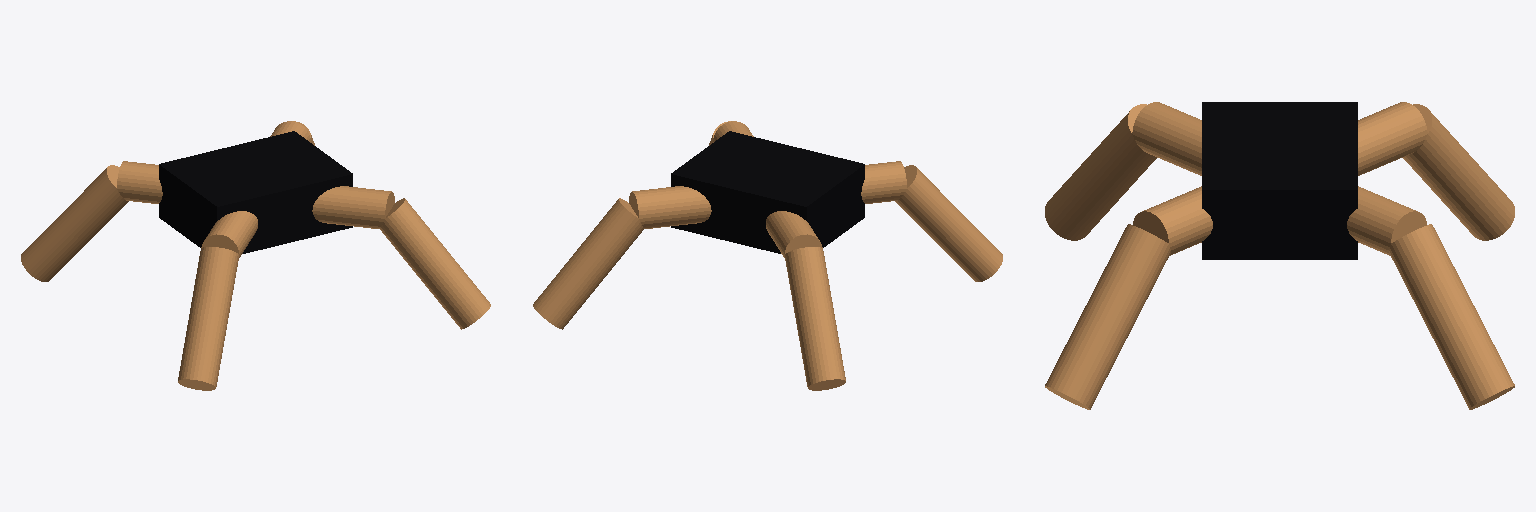
The robot description file, URDF, robot "spyder":
<?xml version="1.0"?>
<!-- FULL 8-DoF spyder, generated by scripts/make_urdf.py from models/spyder.xml -->
<robot name="spyder">
  <mujoco><compiler meshdir="../models/assets" discardvisual="false" balanceinertia="true"/></mujoco>
  <material name="black"><color rgba="0.07 0.07 0.08 1"/></material>
  <material name="tan"><color rgba="0.8 0.6 0.4 1"/></material>
  <link name="torso">
    <inertial><mass value="0.5"/><inertia ixx="0.02" ixy="0" ixz="0" iyy="0.02" iyz="0" izz="0.02"/></inertial>
    <visual><geometry><mesh filename="torso_shell.stl"/></geometry><material name="black"/></visual>
    <collision><geometry><sphere radius="0.25"/></geometry></collision>
    <visual><origin xyz="0.10000 0.10000 0.00000" rpy="0 1.57080 0.78540"/><geometry><cylinder radius="0.08" length="0.28284"/></geometry><material name="tan"/></visual>
    <collision><origin xyz="0.10000 0.10000 0.00000" rpy="0 1.57080 0.78540"/><geometry><cylinder radius="0.08" length="0.28284"/></geometry></collision>
    <visual><origin xyz="-0.10000 0.10000 0.00000" rpy="0 1.57080 2.35619"/><geometry><cylinder radius="0.08" length="0.28284"/></geometry><material name="tan"/></visual>
    <collision><origin xyz="-0.10000 0.10000 0.00000" rpy="0 1.57080 2.35619"/><geometry><cylinder radius="0.08" length="0.28284"/></geometry></collision>
    <visual><origin xyz="-0.10000 -0.10000 0.00000" rpy="0 1.57080 -2.35619"/><geometry><cylinder radius="0.08" length="0.28284"/></geometry><material name="tan"/></visual>
    <collision><origin xyz="-0.10000 -0.10000 0.00000" rpy="0 1.57080 -2.35619"/><geometry><cylinder radius="0.08" length="0.28284"/></geometry></collision>
    <visual><origin xyz="0.10000 -0.10000 0.00000" rpy="0 1.57080 -0.78540"/><geometry><cylinder radius="0.08" length="0.28284"/></geometry><material name="tan"/></visual>
    <collision><origin xyz="0.10000 -0.10000 0.00000" rpy="0 1.57080 -0.78540"/><geometry><cylinder radius="0.08" length="0.28284"/></geometry></collision>
  </link>

  <link name="thigh_1">
    <inertial><mass value="0.1"/><inertia ixx="0.005" ixy="0" ixz="0" iyy="0.005" iyz="0" izz="0.005"/></inertial>
    <visual><origin xyz="0.10000 0.10000 0.00000" rpy="0 1.57080 0.78540"/><geometry><cylinder radius="0.08" length="0.28284"/></geometry><material name="tan"/></visual>
    <collision><origin xyz="0.10000 0.10000 0.00000" rpy="0 1.57080 0.78540"/><geometry><cylinder radius="0.08" length="0.28284"/></geometry></collision>
  </link>
  <link name="shin_1">
    <inertial><mass value="0.1"/><inertia ixx="0.005" ixy="0" ixz="0" iyy="0.005" iyz="0" izz="0.005"/></inertial>
    <visual><origin xyz="0.20000 0.20000 0.00000" rpy="0 1.57080 0.78540"/><geometry><cylinder radius="0.08" length="0.56569"/></geometry><material name="tan"/></visual>
    <collision><origin xyz="0.20000 0.20000 0.00000" rpy="0 1.57080 0.78540"/><geometry><cylinder radius="0.08" length="0.56569"/></geometry></collision>
  </link>
  <joint name="hip_1" type="revolute">
    <parent link="torso"/><child link="thigh_1"/>
    <origin xyz="0.2 0.2 0"/>
    <axis xyz="0.0000 0.0000 1.0000"/>
    <limit lower="-0.5236" upper="0.5236" effort="150" velocity="10"/>
  </joint>
  <joint name="ankle_1" type="revolute">
    <parent link="thigh_1"/><child link="shin_1"/>
    <origin xyz="0.2 0.2 0"/>
    <axis xyz="-0.7071 0.7071 0.0000"/>
    <limit lower="0.5236" upper="1.2217" effort="150" velocity="10"/>
  </joint>

  <link name="thigh_2">
    <inertial><mass value="0.1"/><inertia ixx="0.005" ixy="0" ixz="0" iyy="0.005" iyz="0" izz="0.005"/></inertial>
    <visual><origin xyz="-0.10000 0.10000 0.00000" rpy="0 1.57080 2.35619"/><geometry><cylinder radius="0.08" length="0.28284"/></geometry><material name="tan"/></visual>
    <collision><origin xyz="-0.10000 0.10000 0.00000" rpy="0 1.57080 2.35619"/><geometry><cylinder radius="0.08" length="0.28284"/></geometry></collision>
  </link>
  <link name="shin_2">
    <inertial><mass value="0.1"/><inertia ixx="0.005" ixy="0" ixz="0" iyy="0.005" iyz="0" izz="0.005"/></inertial>
    <visual><origin xyz="-0.20000 0.20000 0.00000" rpy="0 1.57080 2.35619"/><geometry><cylinder radius="0.08" length="0.56569"/></geometry><material name="tan"/></visual>
    <collision><origin xyz="-0.20000 0.20000 0.00000" rpy="0 1.57080 2.35619"/><geometry><cylinder radius="0.08" length="0.56569"/></geometry></collision>
  </link>
  <joint name="hip_2" type="revolute">
    <parent link="torso"/><child link="thigh_2"/>
    <origin xyz="-0.2 0.2 0"/>
    <axis xyz="0.0000 0.0000 1.0000"/>
    <limit lower="-0.5236" upper="0.5236" effort="150" velocity="10"/>
  </joint>
  <joint name="ankle_2" type="revolute">
    <parent link="thigh_2"/><child link="shin_2"/>
    <origin xyz="-0.2 0.2 0"/>
    <axis xyz="0.7071 0.7071 0.0000"/>
    <limit lower="-1.2217" upper="-0.5236" effort="150" velocity="10"/>
  </joint>

  <link name="thigh_3">
    <inertial><mass value="0.1"/><inertia ixx="0.005" ixy="0" ixz="0" iyy="0.005" iyz="0" izz="0.005"/></inertial>
    <visual><origin xyz="-0.10000 -0.10000 0.00000" rpy="0 1.57080 -2.35619"/><geometry><cylinder radius="0.08" length="0.28284"/></geometry><material name="tan"/></visual>
    <collision><origin xyz="-0.10000 -0.10000 0.00000" rpy="0 1.57080 -2.35619"/><geometry><cylinder radius="0.08" length="0.28284"/></geometry></collision>
  </link>
  <link name="shin_3">
    <inertial><mass value="0.1"/><inertia ixx="0.005" ixy="0" ixz="0" iyy="0.005" iyz="0" izz="0.005"/></inertial>
    <visual><origin xyz="-0.20000 -0.20000 0.00000" rpy="0 1.57080 -2.35619"/><geometry><cylinder radius="0.08" length="0.56569"/></geometry><material name="tan"/></visual>
    <collision><origin xyz="-0.20000 -0.20000 0.00000" rpy="0 1.57080 -2.35619"/><geometry><cylinder radius="0.08" length="0.56569"/></geometry></collision>
  </link>
  <joint name="hip_3" type="revolute">
    <parent link="torso"/><child link="thigh_3"/>
    <origin xyz="-0.2 -0.2 0"/>
    <axis xyz="0.0000 0.0000 1.0000"/>
    <limit lower="-0.5236" upper="0.5236" effort="150" velocity="10"/>
  </joint>
  <joint name="ankle_3" type="revolute">
    <parent link="thigh_3"/><child link="shin_3"/>
    <origin xyz="-0.2 -0.2 0"/>
    <axis xyz="-0.7071 0.7071 0.0000"/>
    <limit lower="-1.2217" upper="-0.5236" effort="150" velocity="10"/>
  </joint>

  <link name="thigh_4">
    <inertial><mass value="0.1"/><inertia ixx="0.005" ixy="0" ixz="0" iyy="0.005" iyz="0" izz="0.005"/></inertial>
    <visual><origin xyz="0.10000 -0.10000 0.00000" rpy="0 1.57080 -0.78540"/><geometry><cylinder radius="0.08" length="0.28284"/></geometry><material name="tan"/></visual>
    <collision><origin xyz="0.10000 -0.10000 0.00000" rpy="0 1.57080 -0.78540"/><geometry><cylinder radius="0.08" length="0.28284"/></geometry></collision>
  </link>
  <link name="shin_4">
    <inertial><mass value="0.1"/><inertia ixx="0.005" ixy="0" ixz="0" iyy="0.005" iyz="0" izz="0.005"/></inertial>
    <visual><origin xyz="0.20000 -0.20000 0.00000" rpy="0 1.57080 -0.78540"/><geometry><cylinder radius="0.08" length="0.56569"/></geometry><material name="tan"/></visual>
    <collision><origin xyz="0.20000 -0.20000 0.00000" rpy="0 1.57080 -0.78540"/><geometry><cylinder radius="0.08" length="0.56569"/></geometry></collision>
  </link>
  <joint name="hip_4" type="revolute">
    <parent link="torso"/><child link="thigh_4"/>
    <origin xyz="0.2 -0.2 0"/>
    <axis xyz="0.0000 0.0000 1.0000"/>
    <limit lower="-0.5236" upper="0.5236" effort="150" velocity="10"/>
  </joint>
  <joint name="ankle_4" type="revolute">
    <parent link="thigh_4"/><child link="shin_4"/>
    <origin xyz="0.2 -0.2 0"/>
    <axis xyz="0.7071 0.7071 0.0000"/>
    <limit lower="0.5236" upper="1.2217" effort="150" velocity="10"/>
  </joint>

</robot>

--- What the picture shows (computed from the rendered views, not written in the file) ---
Views: 3 orthographic renders of the robot side by side, from view 1: azimuth 30°, elevation 25°; view 2: azimuth 150°, elevation 25°; view 3: azimuth 270°, elevation 25°.
Model spyder with 9 links and 8 joints (8 revolute), rooted at torso, posed all joints at 0 but 4 set to mid-range because 0 is outside their limits (ankle_1 = 0.8727, ankle_2 = -0.8727, ankle_3 = -0.8727, ankle_4 = 0.8727).
Visible links, largest first — view 1: torso, shin_3, shin_4, shin_2, thigh_4, thigh_2, thigh_3; view 2: torso, shin_2, shin_1, shin_3, thigh_1, thigh_3, thigh_2; view 3: torso, shin_1, shin_4, shin_2, shin_3, thigh_2, thigh_3, thigh_1, thigh_4.
Boxes of the visible links, x1,y1,x2,y2 form: torso: (159,131,352,253); shin_3: (178,247,238,390); shin_4: (380,198,490,329); shin_2: (21,165,128,281); thigh_4: (318,186,394,228); thigh_2: (117,161,162,203); thigh_3: (201,211,256,257); torso: (671,131,864,253); shin_2: (785,247,845,390); shin_1: (533,198,643,329); shin_3: (895,165,1002,281); thigh_1: (629,186,705,228); thigh_3: (861,161,906,203); thigh_2: (767,211,822,257); torso: (1197,102,1362,259); shin_1: (1389,224,1514,409); shin_4: (1045,224,1170,409); shin_2: (1403,104,1514,240); shin_3: (1045,104,1156,240); thigh_2: (1358,102,1427,175); thigh_3: (1132,102,1201,175); thigh_1: (1347,186,1426,255); thigh_4: (1133,186,1212,255).
Bounding box of the posed robot: 1.46 × 1.46 × 0.6048 m (x, y, z).
1 mesh visuals loaded from 1 distinct referenced files (1 binary STL).
